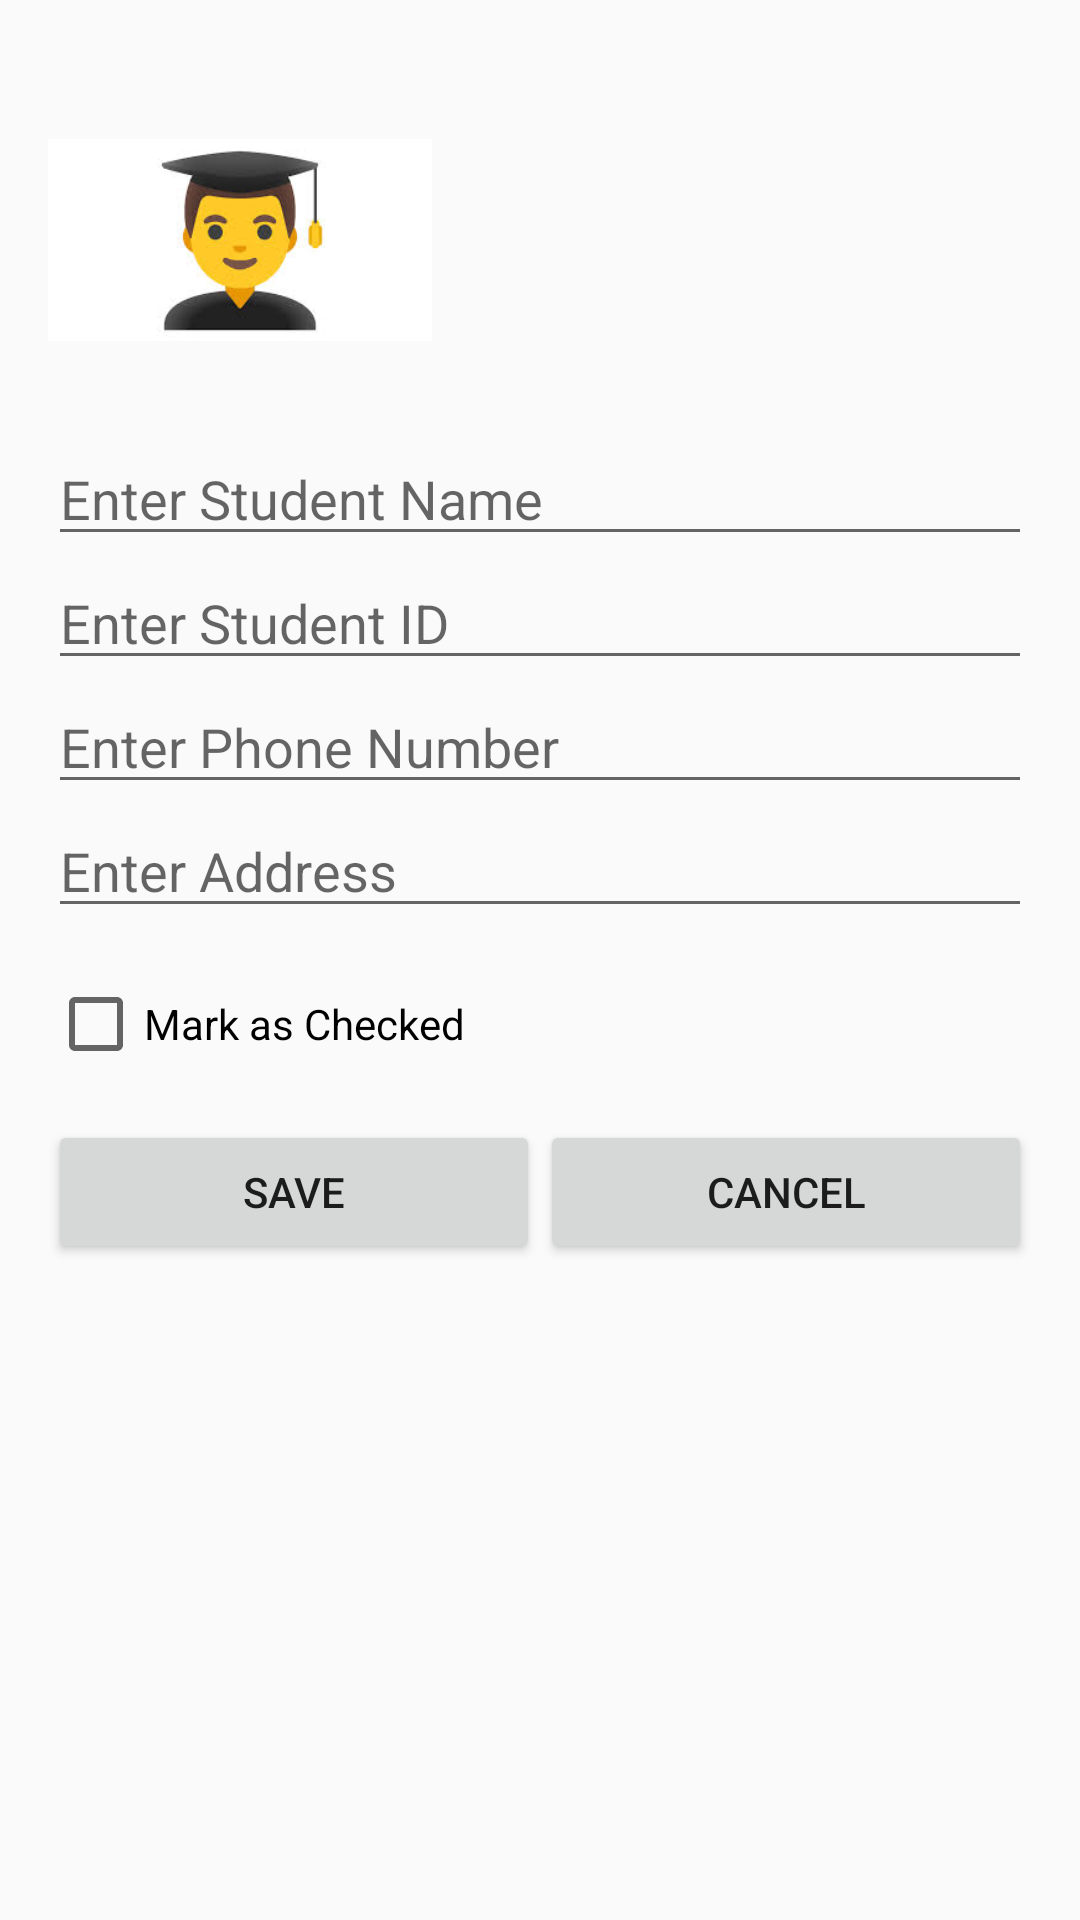

Point at icon controls on the screen. Image size 1080px×1920px, points as [x,y].
student pic: [242,241]
